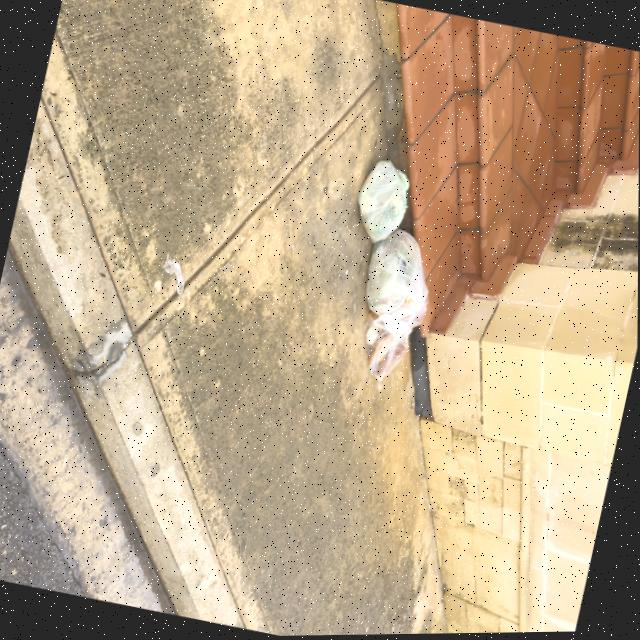Organic Waste -White Bag-: (345, 224, 441, 383), (349, 158, 419, 250)
